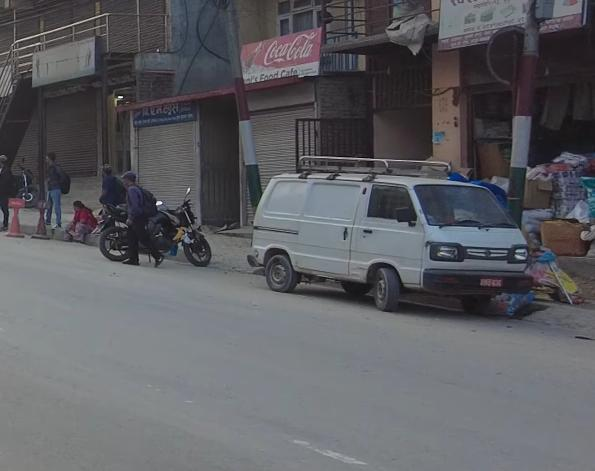bike: (97, 196, 218, 273)
van: (248, 146, 544, 326)
